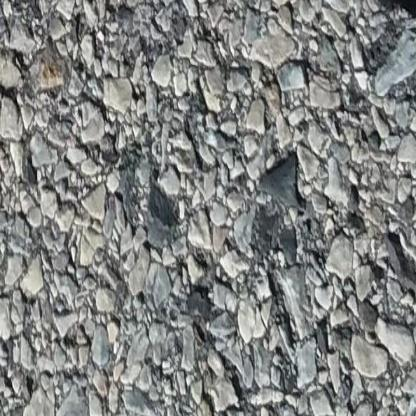Cracks: (373, 0, 416, 27)
